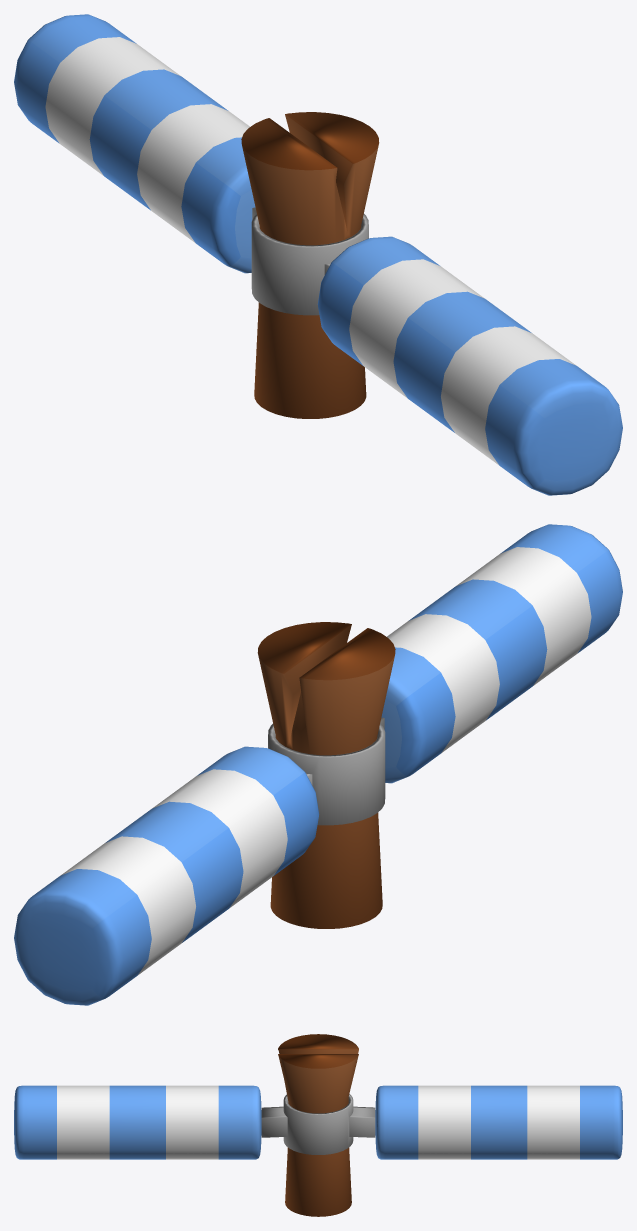
The model's file is trap_trapcircledoubleblue.glb.
3 views of the same model, one above another, from view 1: azimuth 30°, elevation 25°; view 2: azimuth 150°, elevation 25°; view 3: azimuth 270°, elevation 25° (orthographic). The views are drawn at different scales.
Visible parts, largest first — view 1: Cylinder.001_visual, Cylinder_visual; view 2: Cylinder.001_visual, Cylinder_visual; view 3: Cylinder.001_visual, Cylinder_visual.
Part boxes in pixels (x1,y1,x2,y2): Cylinder.001_visual: (14, 14, 622, 495); Cylinder_visual: (241, 112, 379, 418); Cylinder.001_visual: (14, 524, 622, 1005); Cylinder_visual: (257, 622, 395, 928); Cylinder.001_visual: (14, 1085, 622, 1159); Cylinder_visual: (278, 1034, 358, 1216).
Size of what is drawn, in the model's own units: 0.41 by 0.8222 by 3.
1 material, 1 textured.
